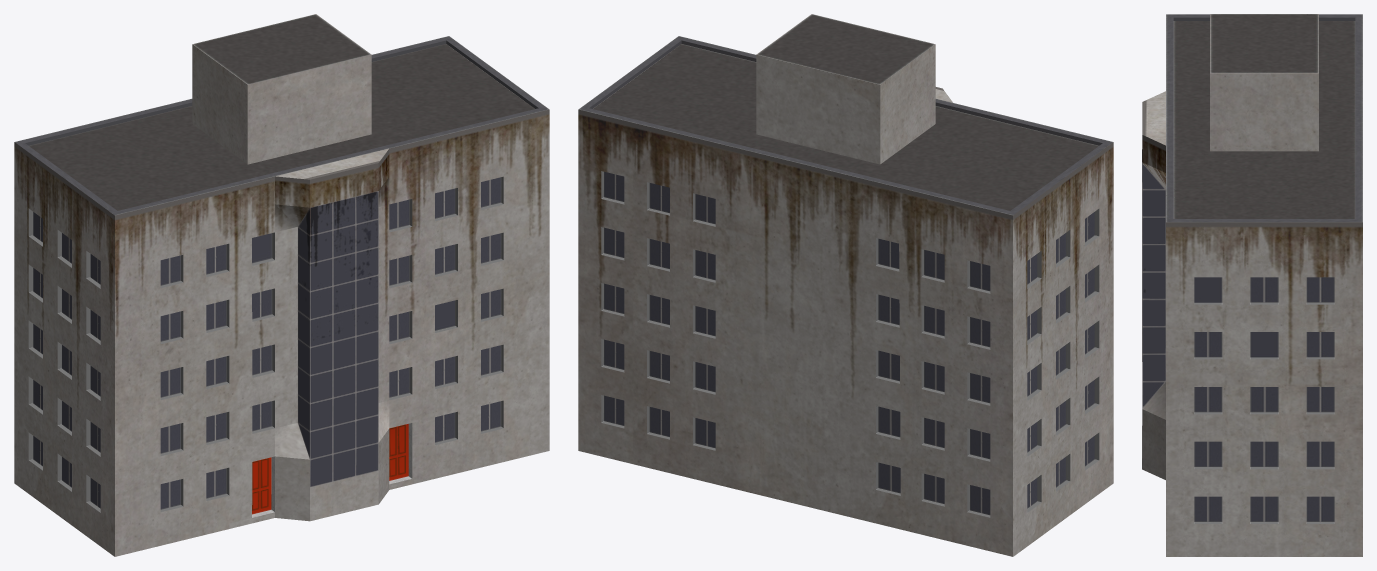
The model's file is building.glb.
The picture shows the model from 3 angles, left to right: view 1: azimuth 30°, elevation 25°; view 2: azimuth 150°, elevation 25°; view 3: azimuth 270°, elevation 25°; orthographic projection. The views are drawn at different scales.
Parts seen in each view (by area): view 1: Object_2; view 2: Object_2; view 3: Object_2.
Boxes of the visible parts, left/top/right/bottom form: Object_2: left=14, top=14, right=549, bottom=556; Object_2: left=578, top=14, right=1113, bottom=556; Object_2: left=1142, top=14, right=1362, bottom=556.
Size of the model in its own units: 15.38 by 14.12 by 6.9.
Materials: 1 (1 with a texture image).
